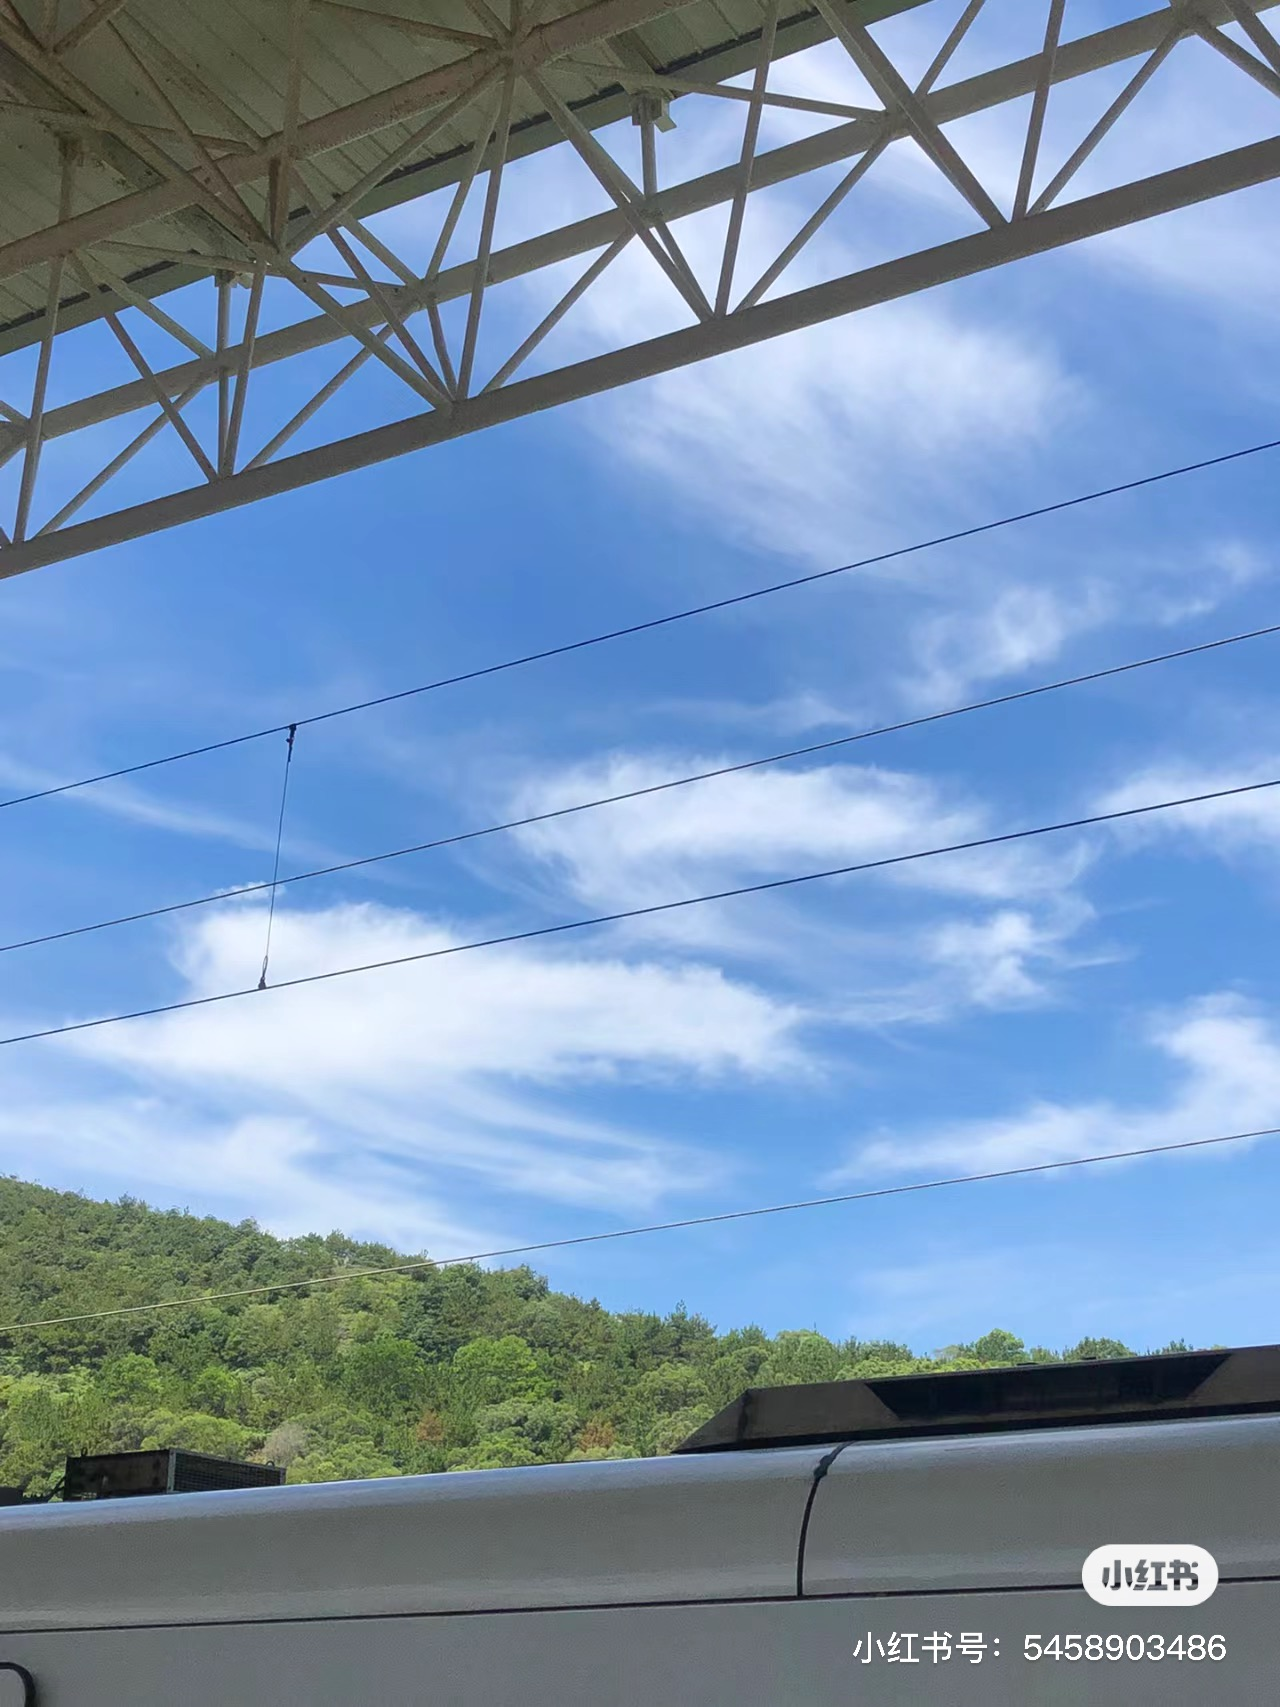Cirrus: (571, 204, 1241, 567), (95, 856, 776, 1210), (526, 680, 1082, 984), (832, 1003, 1280, 1198)
